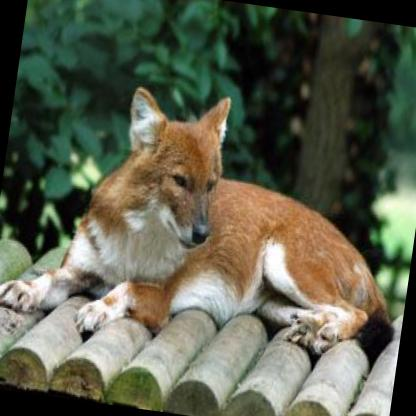dhole: (0, 63, 416, 370)
